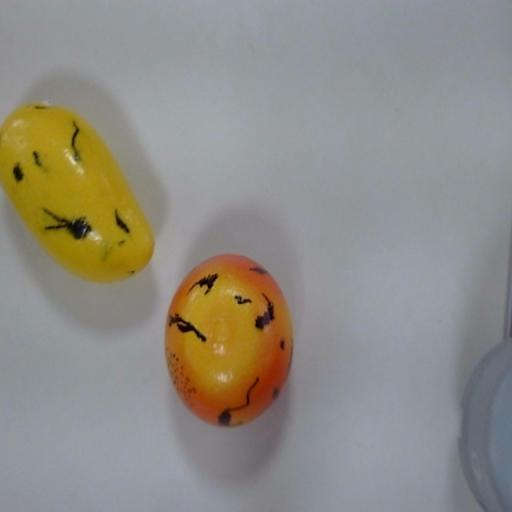Defective: (2, 91, 159, 289), (164, 245, 300, 427)
